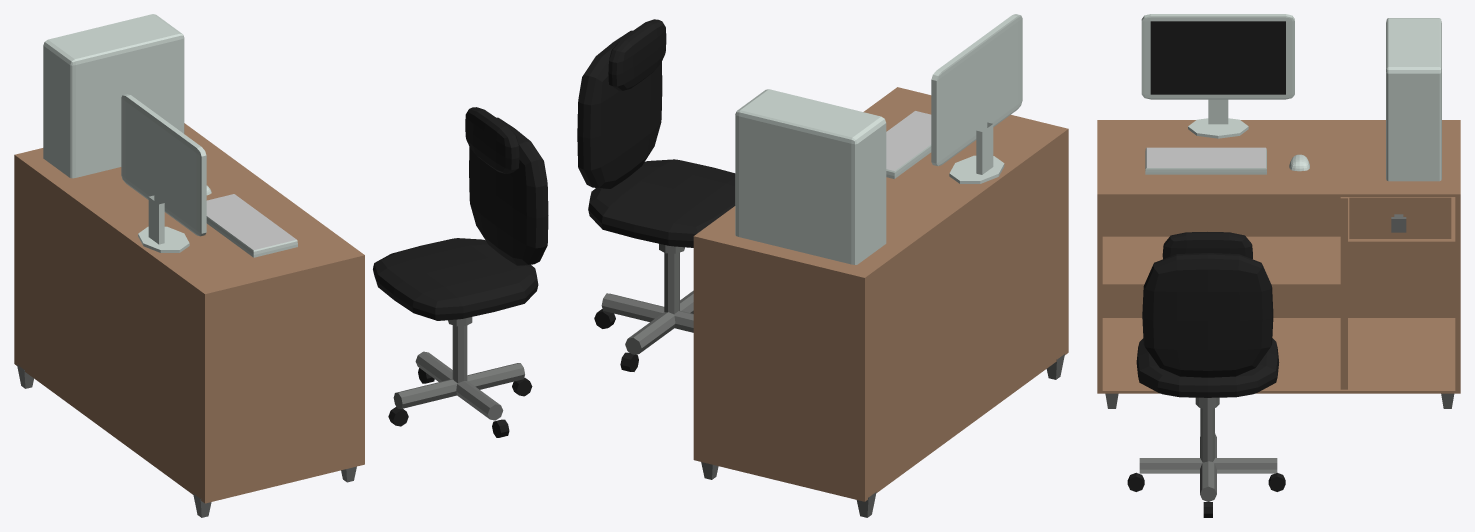
The model's file is Escritorio_Con_PC.fbx.
3 views of the same model, side by side, from view 1: azimuth 30°, elevation 25°; view 2: azimuth 150°, elevation 25°; view 3: azimuth 270°, elevation 25° (orthographic). The views are drawn at different scales.
Parts seen in each view (by area): view 1: Escritorio, SillaEscritorio, CPU, Monitor, Teclado; view 2: Escritorio, SillaEscritorio, CPU, Monitor, Teclado; view 3: Escritorio, SillaEscritorio, Monitor, CPU, Teclado.
Part boxes in pixels (bbox=[...]): Escritorio: bbox=[14, 123, 364, 517]; SillaEscritorio: bbox=[373, 107, 548, 437]; CPU: bbox=[43, 14, 184, 178]; Monitor: bbox=[121, 94, 206, 252]; Teclado: bbox=[206, 194, 297, 257]; Escritorio: bbox=[693, 87, 1068, 517]; SillaEscritorio: bbox=[577, 19, 735, 371]; CPU: bbox=[735, 89, 886, 264]; Monitor: bbox=[931, 14, 1022, 183]; Teclado: bbox=[886, 111, 931, 178]; Escritorio: bbox=[1097, 120, 1460, 408]; SillaEscritorio: bbox=[1127, 232, 1285, 517]; Monitor: bbox=[1141, 14, 1294, 138]; CPU: bbox=[1386, 18, 1441, 181]; Teclado: bbox=[1145, 147, 1266, 174].
Size of the model in its own units: 173 by 154 by 149.
